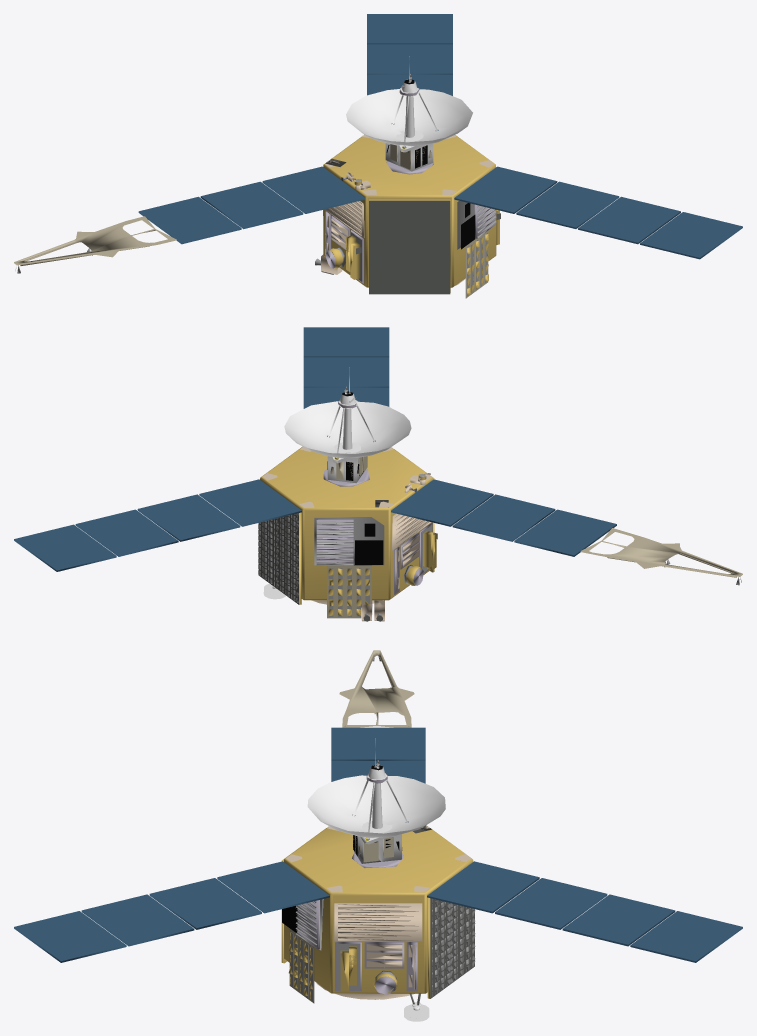
Rendered from juno-craft.glb.
The picture shows the model from 3 angles, top to bottom: view 1: azimuth 30°, elevation 25°; view 2: azimuth 150°, elevation 25°; view 3: azimuth 270°, elevation 25°; orthographic projection. The views are drawn at different scales.
Parts seen in each view (by area): view 1: craft; view 2: craft; view 3: craft.
Boxes of the visible parts, bbox=[...] form: craft: bbox=[14, 14, 742, 298]; craft: bbox=[14, 327, 742, 621]; craft: bbox=[14, 650, 742, 1021].
Bounding box in the file's own units: 18.28 × 6.89 × 18.09.
1 material, 1 textured.
